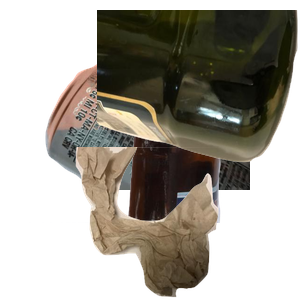glass: (29, 120, 242, 300)
metal: (43, 58, 283, 238)
plastic: (97, 10, 300, 165)
trash: (73, 147, 300, 300)
